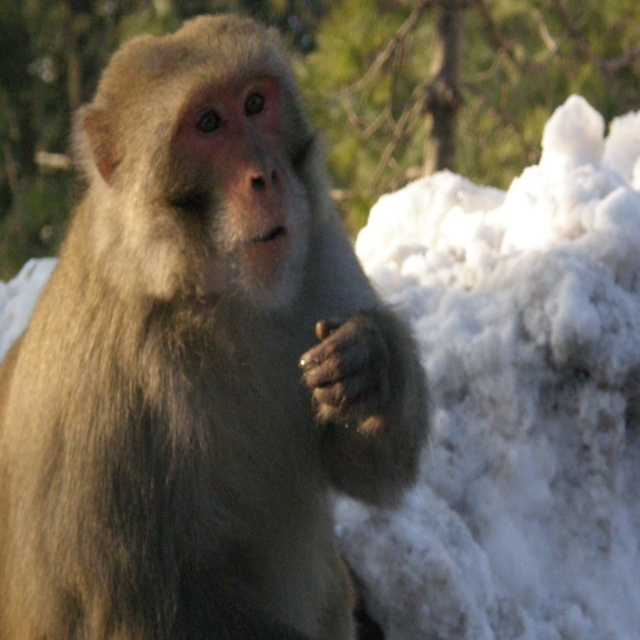Monkey: (0, 12, 439, 640)
